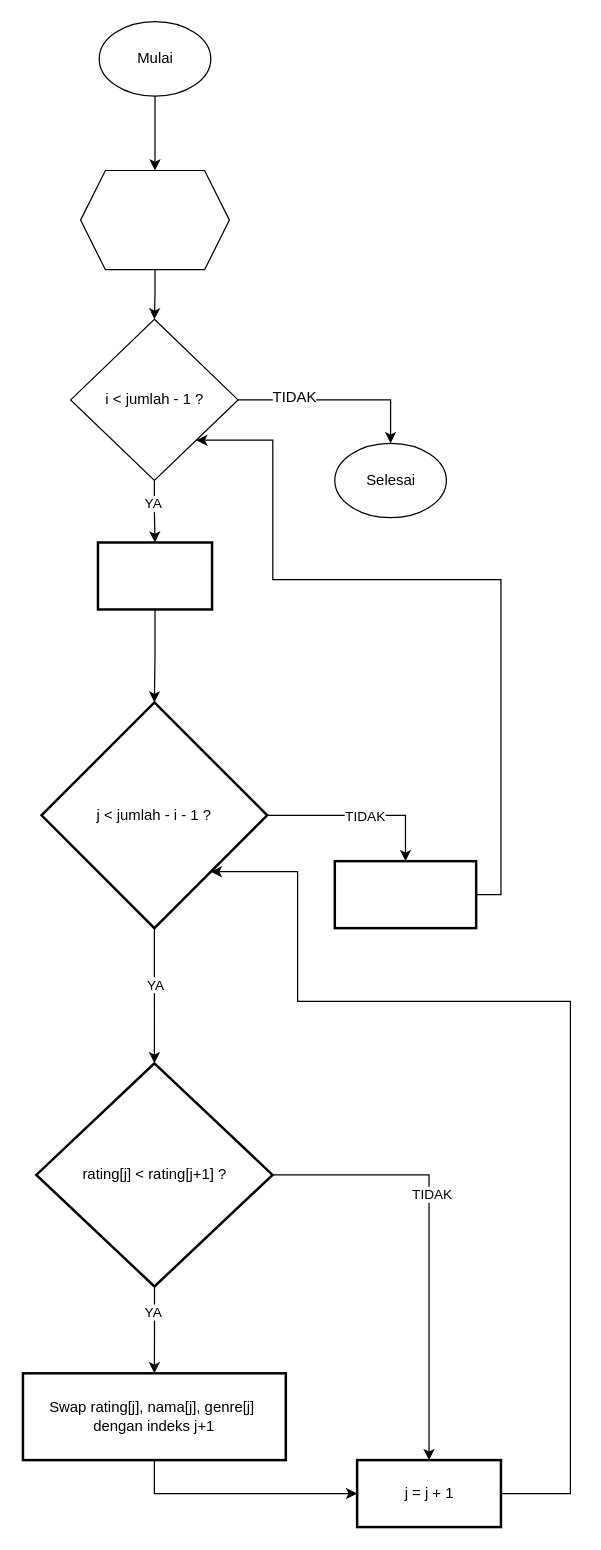
This 601x1550 diagram has some shape labels left out. Each missing label, with the centre of its shape:
i = 0: (154,219)
i = i + 1: (405,894)
j = 0: (154,575)
